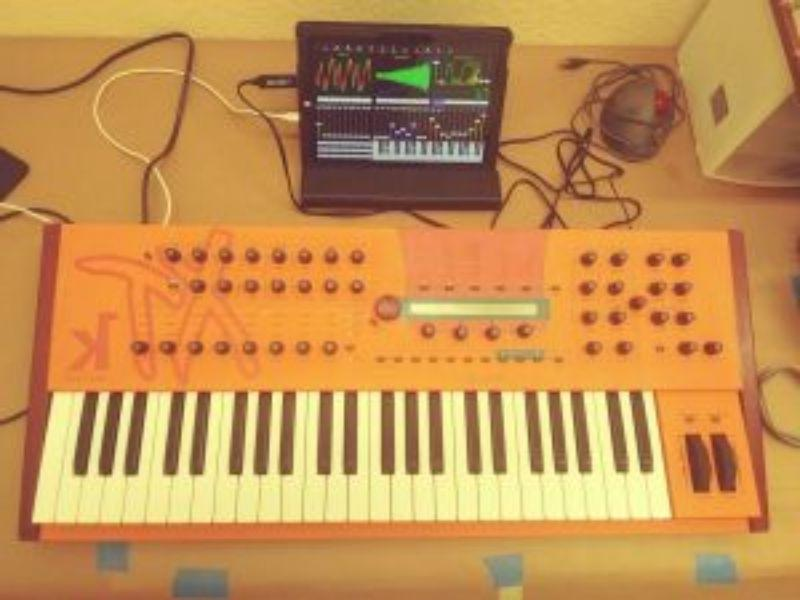synthesizer: (28, 206, 763, 541)
